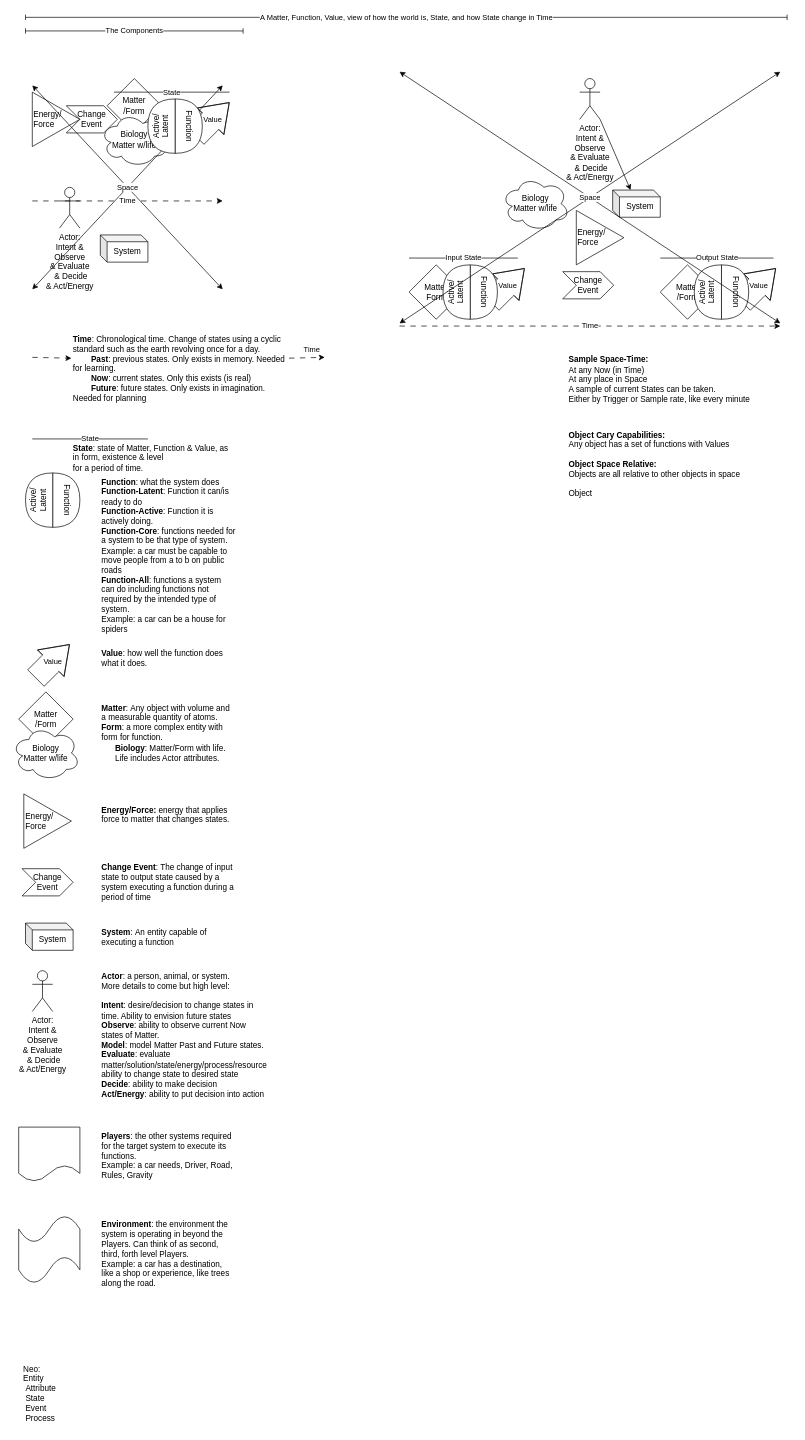
Image size: 805x1440. Some labels were removed from this diagram. The box of each missing label's shape, as (x1, y1, x2, y2) in pixels:
Environment: (18, 1215, 80, 1284)
Players: (18, 1126, 80, 1182)
